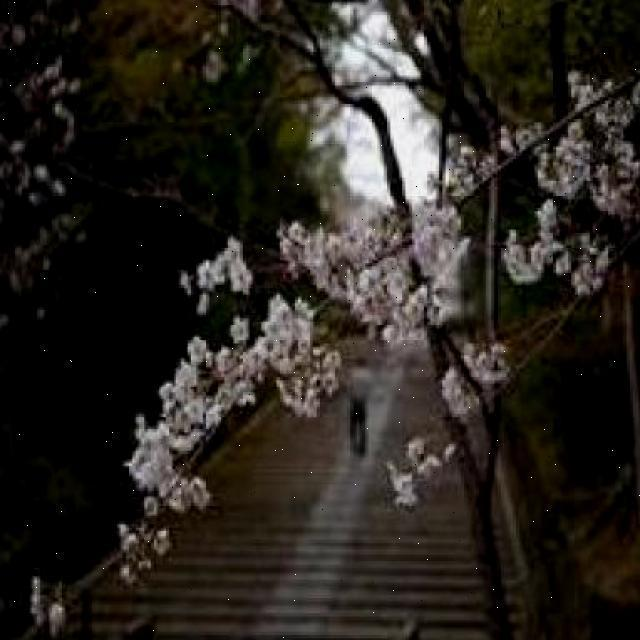stair: (142, 454, 471, 640)
